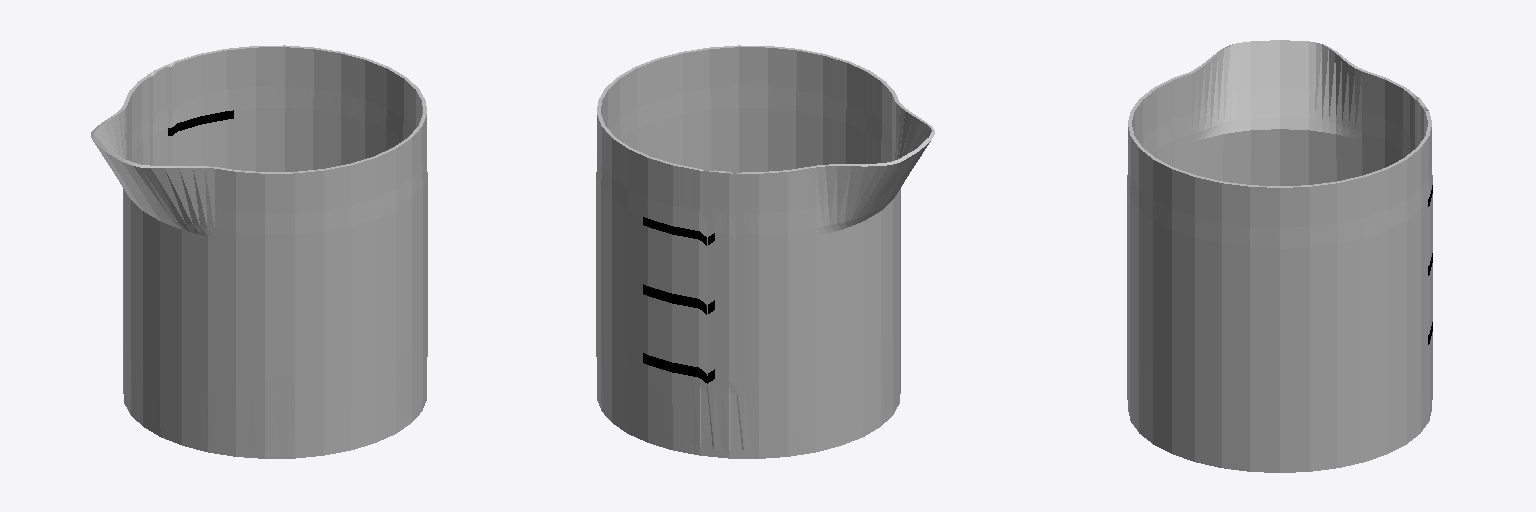
Rendered from Cup.obj.
3 views of the same model, side by side, from view 1: azimuth 30°, elevation 25°; view 2: azimuth 150°, elevation 25°; view 3: azimuth 270°, elevation 25° (orthographic).
Parts seen in each view (by area): view 1: Becherglass; view 2: Becherglass; view 3: Becherglass.
Part boxes in pixels (x1,y1,x2,y2): Becherglass: (91,45,427,458); Becherglass: (596,45,934,458); Becherglass: (1127,40,1432,472).
Size of the model in its own units: 0.1082 by 0.0979 by 0.0945.